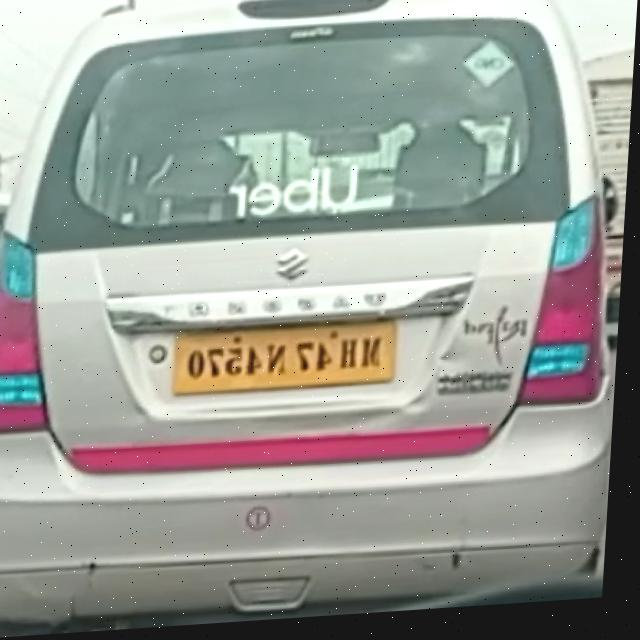plate: (168, 317, 411, 407)
